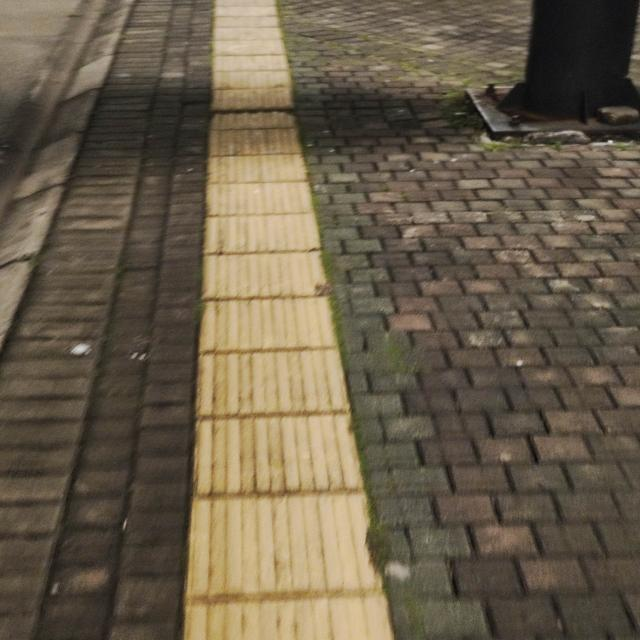lurus: (183, 17, 366, 640)
